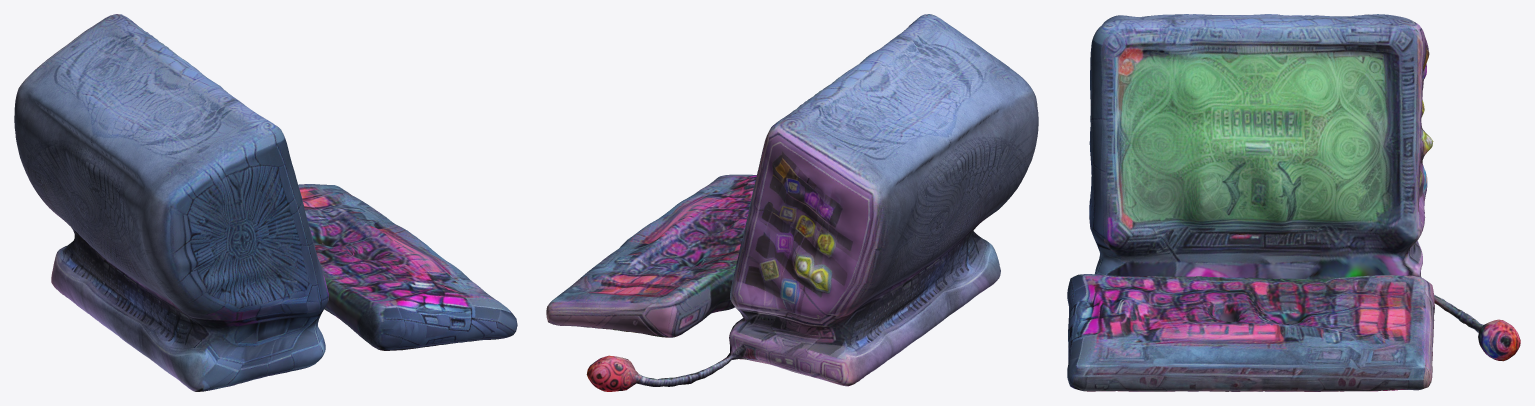
3 views of the same model, side by side, from view 1: azimuth 30°, elevation 25°; view 2: azimuth 150°, elevation 25°; view 3: azimuth 270°, elevation 25° (orthographic).
Visible parts, largest first — view 1: Mesh_0; view 2: Mesh_0; view 3: Mesh_0.
Part boxes in pixels (bbox=[...]): Mesh_0: bbox=[14, 14, 517, 391]; Mesh_0: bbox=[546, 14, 1038, 391]; Mesh_0: bbox=[1067, 14, 1520, 391].
Bounding box in the file's own units: 106 × 79.08 × 120.
1 material, 1 textured.
